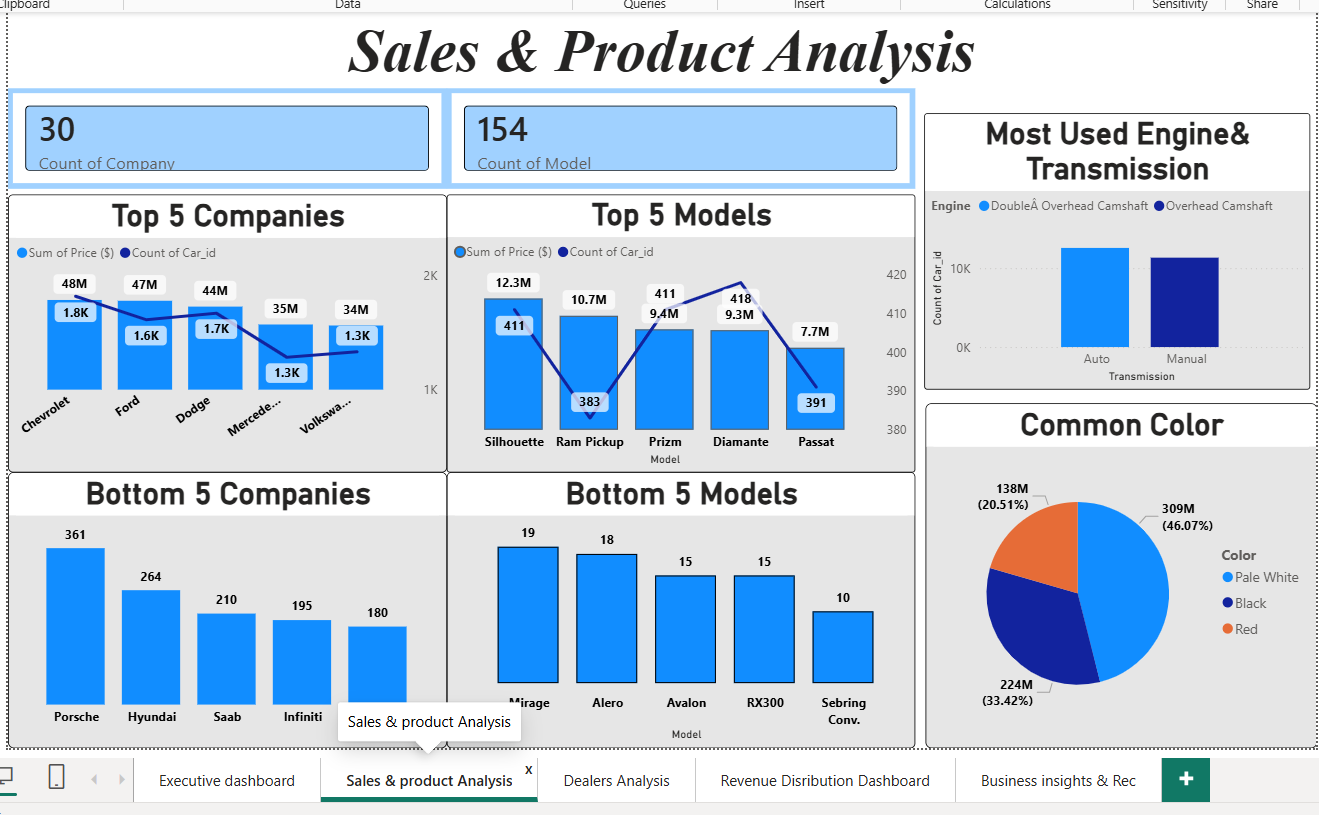

The dashboard page shown, as its layout file describes it:
{"tool":"powerbi","page":{"name":"Sales & product Analysis","canvas":[1280,720],"ordinal":1},"visuals":[{"type":"lineStackedColumnComboChart","title":"Top 5 Companies","fields":{"Category":["car_data.Company"],"Y2":["CountNonNull(car_data.Car_id)"],"Y":["Sum(car_data.Price ($))"]},"box":[0,178.4,429.5,271.7],"z":0},{"type":"lineStackedColumnComboChart","title":"Top 5 Models","fields":{"Category":["car_data.Model"],"Y2":["CountNonNull(car_data.Car_id)"],"Y":["Sum(car_data.Price ($))"]},"box":[429.5,178.4,458.3,271.7],"z":1000},{"type":"columnChart","title":"Bottom 5 Models","fields":{"Category":["car_data.Model"],"Y":["CountNonNull(car_data.Car_id)"]},"box":[429.5,450.1,458.3,270.3],"z":2000},{"type":"columnChart","title":"Bottom 5 Companies","fields":{"Category":["car_data.Company"],"Y":["CountNonNull(car_data.Car_id)"]},"box":[0,450.1,429.5,270.3],"z":3000},{"type":"textbox","box":[0,0,1280,84.1],"z":4000},{"type":"cardVisual","fields":{"Data":["Count(car_data.Company)"]},"box":[0,74.1,429.5,98.8],"z":5000},{"type":"cardVisual","fields":{"Data":["Count(car_data.Model)"]},"box":[429.5,74.1,458.3,98.8],"z":6000},{"type":"pieChart","title":"Common Color","fields":{"Category":["car_data.Color"],"Y":["Sum(car_data.Price ($))"]},"box":[897.4,382.8,382.8,337.6],"z":7000},{"type":"columnChart","title":"Most Used Engine& Transmission","fields":{"Y":["CountNonNull(car_data.Car_id)"],"Category":["car_data.Transmission"],"Series":["car_data.Engine"]},"box":[896.1,98.8,377.4,270.3],"z":8000}]}

Visuals, with their boxes on the page's 1280x720 design canvas (x1, y1, x2, y2). These are canvas units, not pixel positions in the 1319x815 screenshot, which may show the page scaled, cropped or inside an application window:
"Top 5 Companies" lineStackedColumnComboChart: pyautogui.locateOnScreen(0, 178, 430, 450)
"Top 5 Models" lineStackedColumnComboChart: pyautogui.locateOnScreen(430, 178, 888, 450)
"Bottom 5 Models" columnChart: pyautogui.locateOnScreen(430, 450, 888, 720)
"Bottom 5 Companies" columnChart: pyautogui.locateOnScreen(0, 450, 430, 720)
textbox: pyautogui.locateOnScreen(0, 0, 1280, 84)
cardVisual - Count(car_data.Company): pyautogui.locateOnScreen(0, 74, 430, 173)
cardVisual - Count(car_data.Model): pyautogui.locateOnScreen(430, 74, 888, 173)
"Common Color" pieChart: pyautogui.locateOnScreen(897, 383, 1280, 720)
"Most Used Engine& Transmission" columnChart: pyautogui.locateOnScreen(896, 99, 1274, 369)
